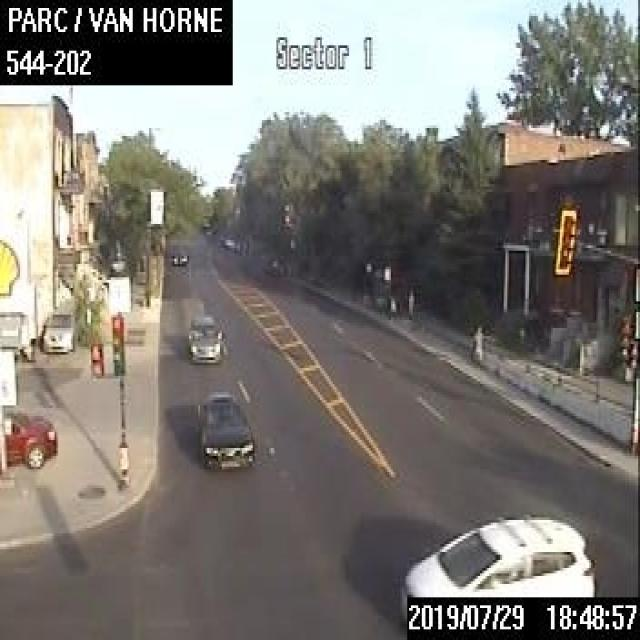vehicle: (396, 512, 594, 627), (198, 390, 254, 469), (0, 268, 45, 358), (4, 409, 56, 466), (41, 297, 82, 350), (187, 312, 220, 362), (169, 251, 189, 269)
